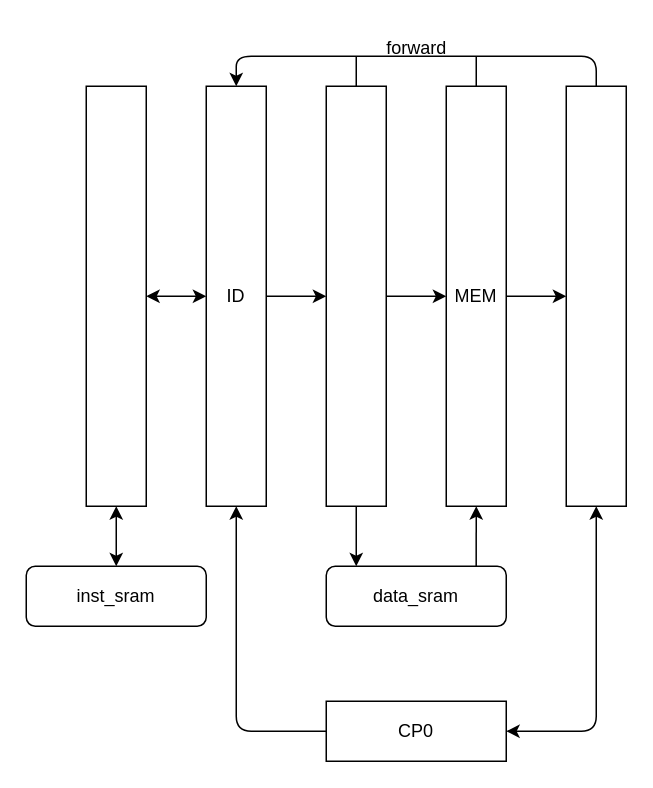
The diagram is 653 pixels wide and 788 high, and some of its shapes have lost their labels. Here are the shapes that lost their labels. From the top down, the box of each, then its label:
(85, 85, 146, 506): IF
(325, 85, 386, 506): EXE
(565, 85, 626, 506): WB
